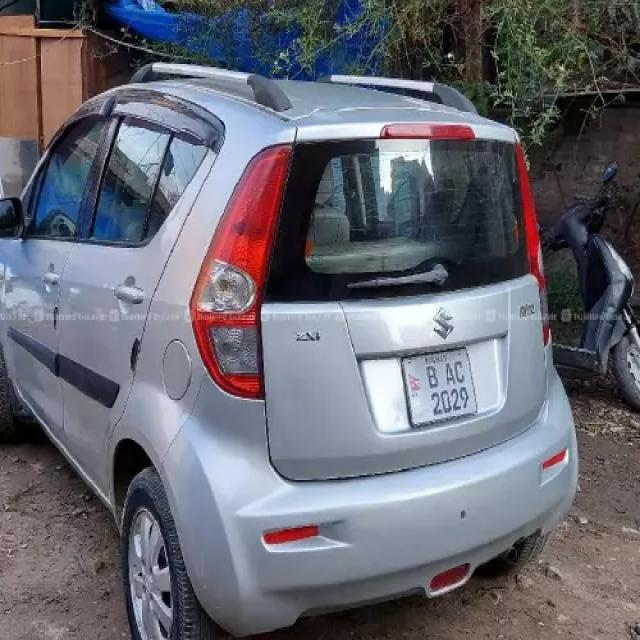License-plate: (401, 348, 484, 422)
